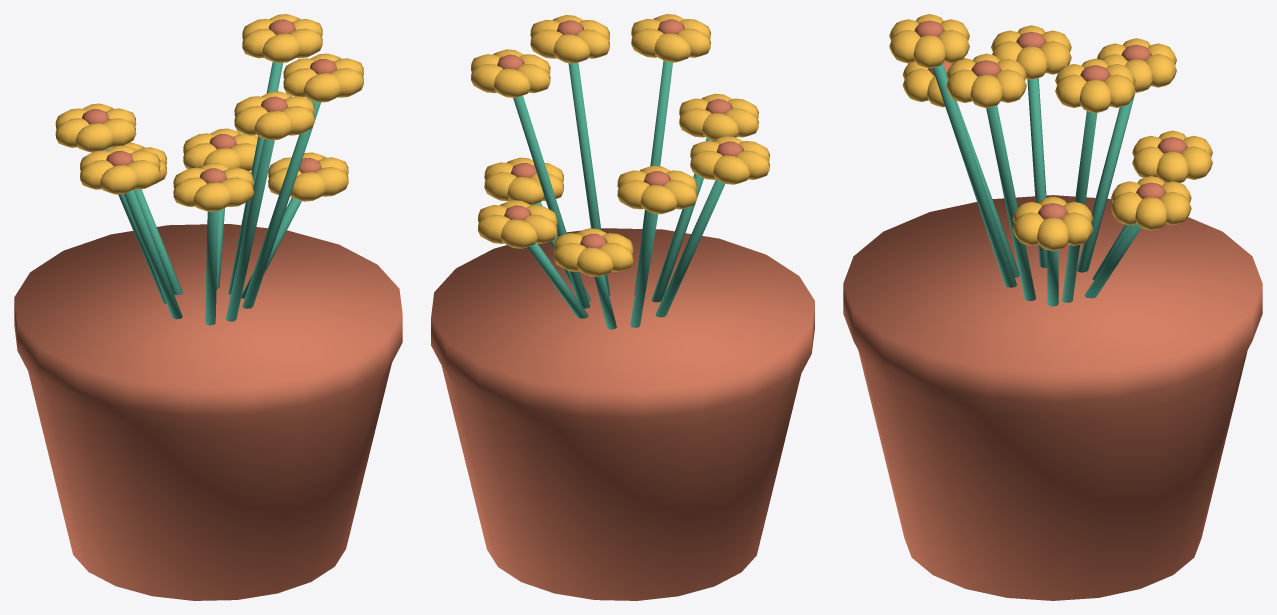
File: flower-pot.glb
The picture shows the model from 3 angles, left to right: view 1: azimuth 30°, elevation 25°; view 2: azimuth 150°, elevation 25°; view 3: azimuth 270°, elevation 25°; orthographic projection. The views are drawn at different scales.
Parts seen in each view (by area): view 1: GEO-flower-pot; view 2: GEO-flower-pot; view 3: GEO-flower-pot.
Part boxes in pixels (left/top/right/bottom): GEO-flower-pot: left=14, top=14, right=402, bottom=600; GEO-flower-pot: left=431, top=14, right=814, bottom=600; GEO-flower-pot: left=843, top=14, right=1262, bottom=600.
Bounding box in the file's own units: 0.508 × 0.695 × 0.508.
